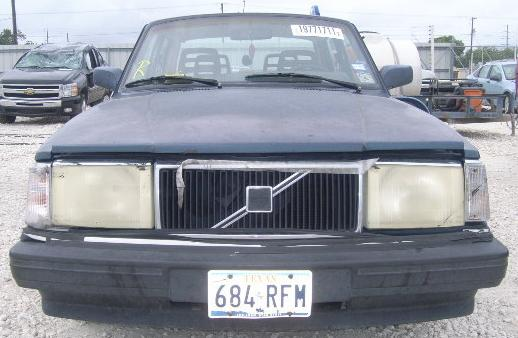front_view: (22, 111, 493, 322)
headlight: (24, 146, 164, 236)
